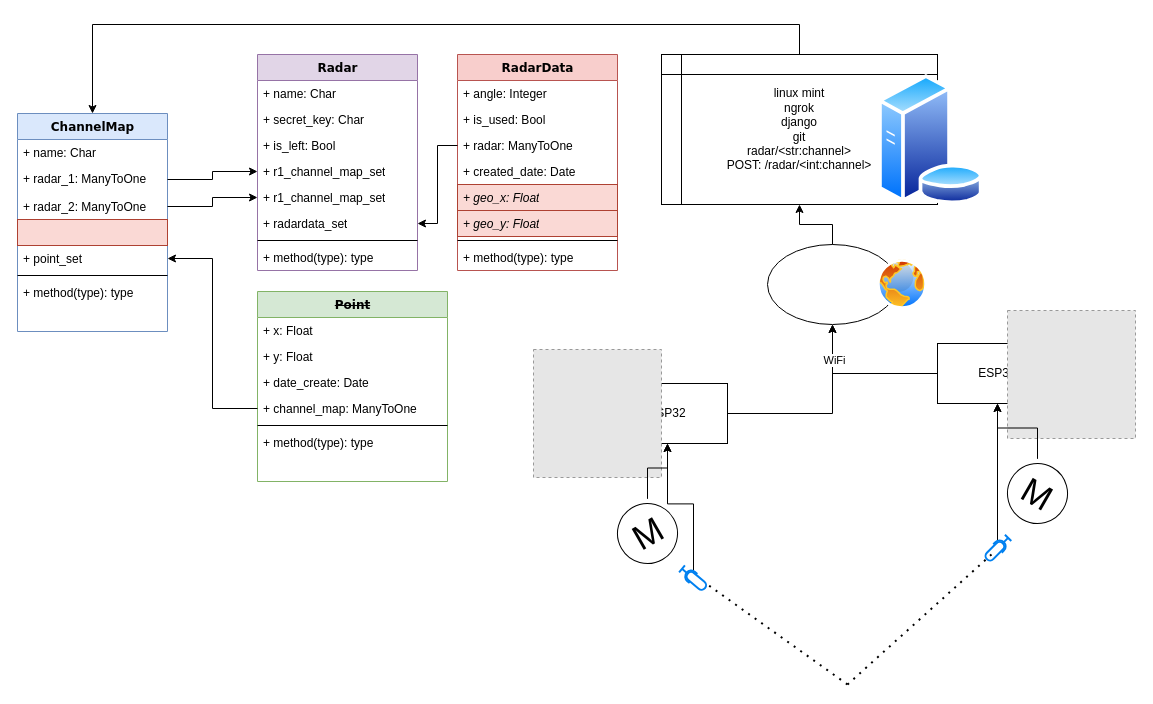
This 1153x704 diagram has some shape labels left out. Grey dashed boxes stand in for pictures. The shapes that lost their labels are listed below. From the top down, each one's centre as x and y in pixels, then its label:
At point (92, 232): "+ radar_3: ManyToOne".
At point (832, 284): "Internet".
